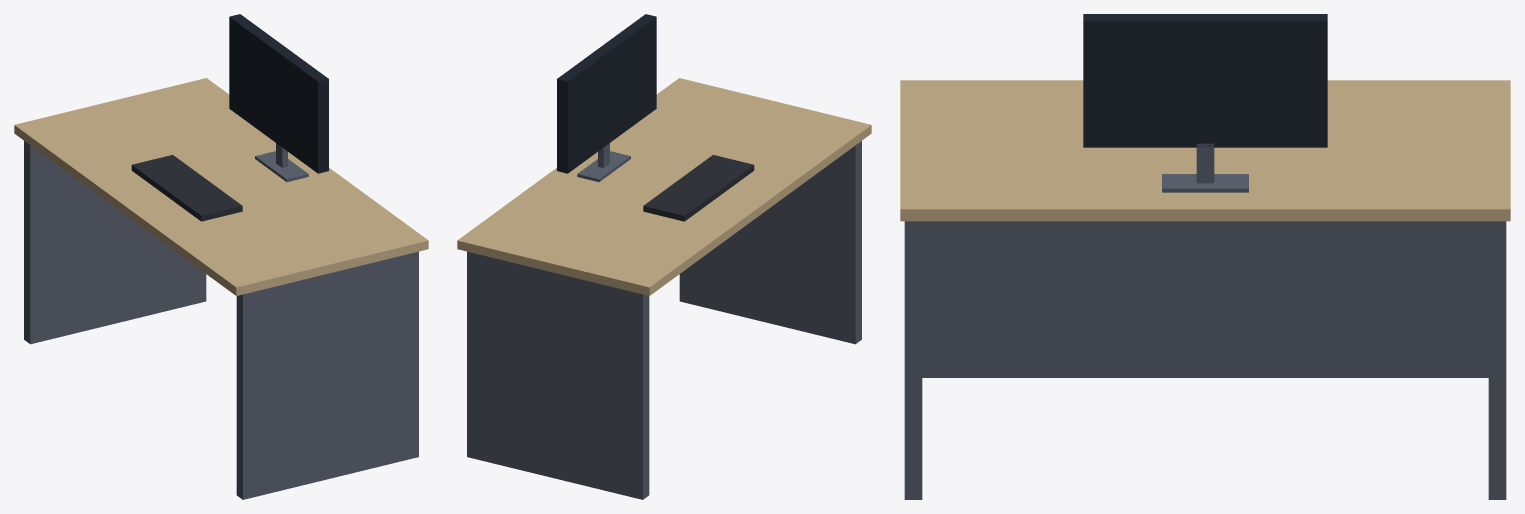
Rendered from mesa.glb.
The picture shows the model from 3 angles, left to right: view 1: azimuth 30°, elevation 25°; view 2: azimuth 150°, elevation 25°; view 3: azimuth 270°, elevation 25°; orthographic projection. The views are drawn at different scales.
Parts seen in each view (by area): view 1: estrutura; view 2: estrutura; view 3: estrutura.
Boxes of the visible parts, x1,y1,x2,y2 form: estrutura: (14,14,428,499); estrutura: (457,14,871,499); estrutura: (900,14,1510,499).
Size of the model in its own units: 0.7 by 1.17 by 1.4.
